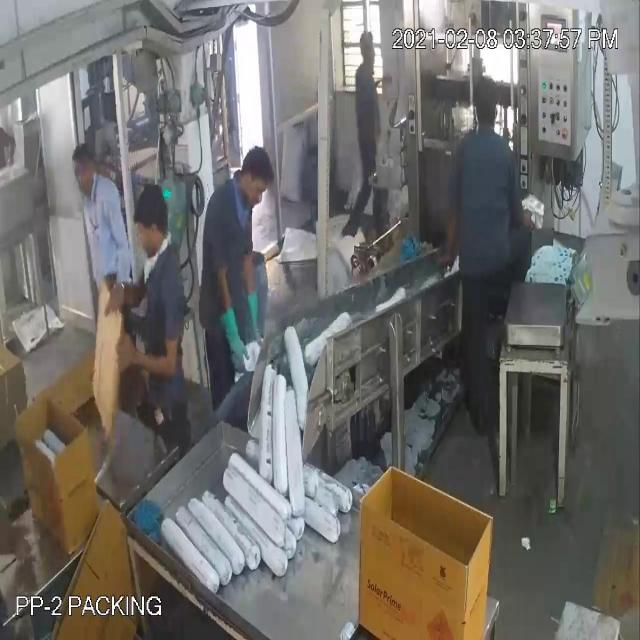No_Gloves: (30, 39, 254, 356)
